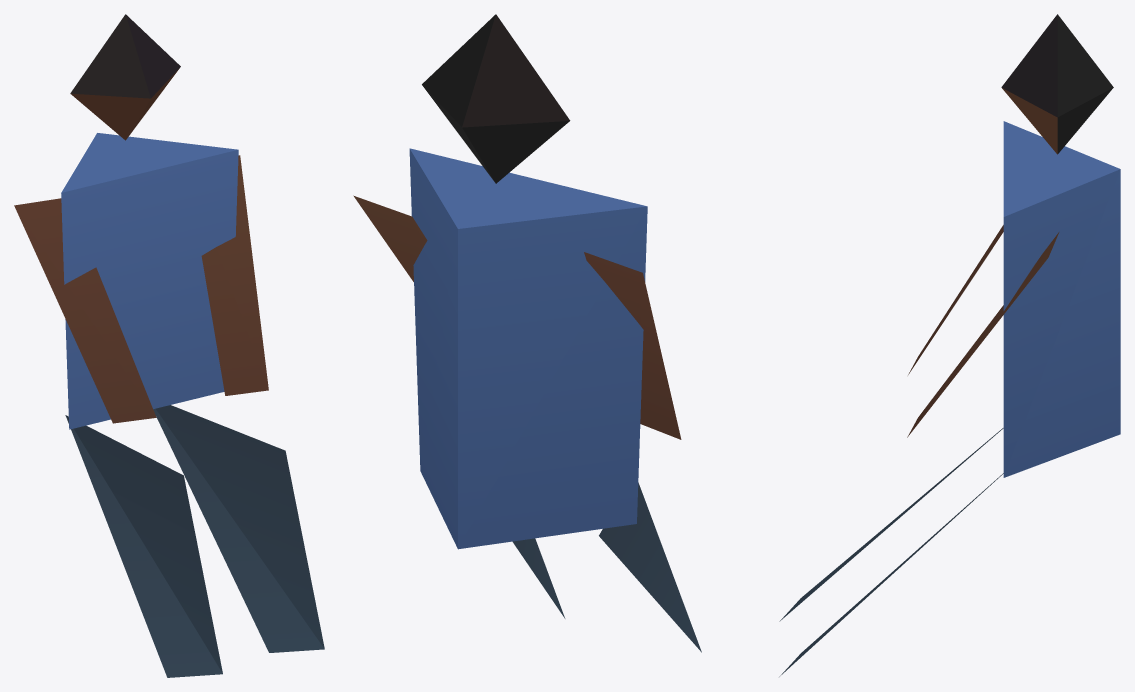
Rendered from fan-04.glb.
3 renders of one model, left to right at view 1: azimuth 30°, elevation 25°; view 2: azimuth 150°, elevation 25°; view 3: azimuth 270°, elevation 25°, orthographic. The views are drawn at different scales.
Parts seen in each view (by area): view 1: fan-04; view 2: fan-04; view 3: fan-04.
Boxes of the visible parts, bbox=[...] form: fan-04: bbox=[14, 14, 324, 677]; fan-04: bbox=[353, 14, 701, 652]; fan-04: bbox=[779, 14, 1120, 676].
Size of the model in its own units: 0.63 by 1.53 by 0.76.
